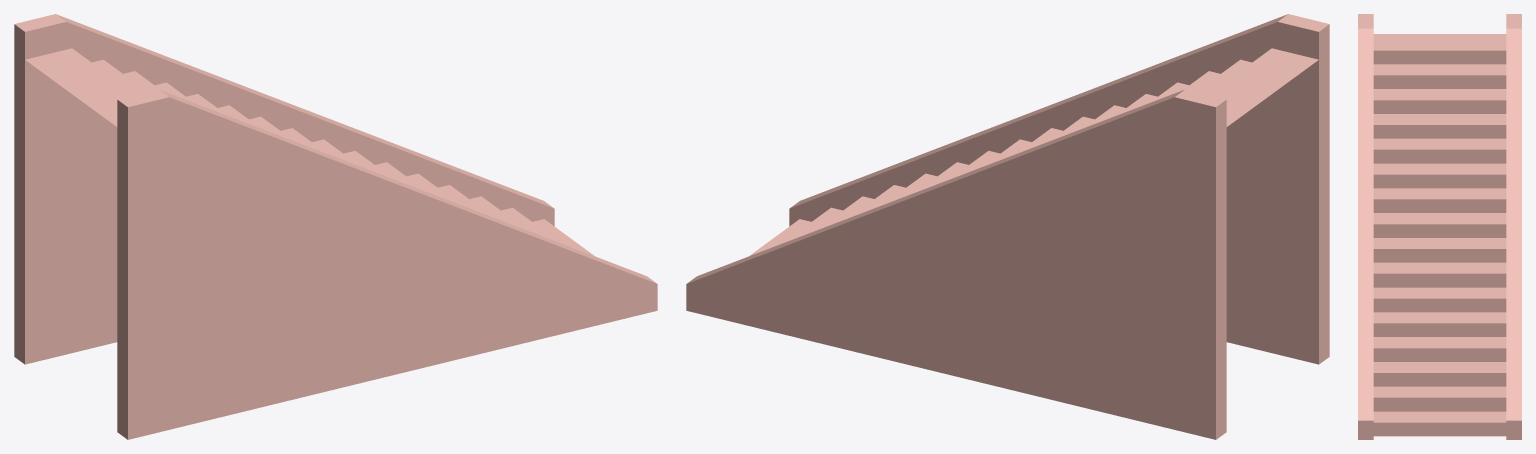
File: Mega_Asset_s_Pack_Plane_007.FBX
The picture shows the model from 3 angles, left to right: view 1: azimuth 30°, elevation 25°; view 2: azimuth 150°, elevation 25°; view 3: azimuth 270°, elevation 25°; orthographic projection. The views are drawn at different scales.
Parts seen in each view (by area): view 1: Mega_Asset_s_Pack_Plane_007; view 2: Mega_Asset_s_Pack_Plane_007; view 3: Mega_Asset_s_Pack_Plane_007.
Part boxes in pixels (x1,y1,x2,y2): Mega_Asset_s_Pack_Plane_007: (14,14,657,439); Mega_Asset_s_Pack_Plane_007: (686,14,1329,439); Mega_Asset_s_Pack_Plane_007: (1358,14,1521,439).
Size of what is drawn, in the model's own units: 895 by 332 by 537.
